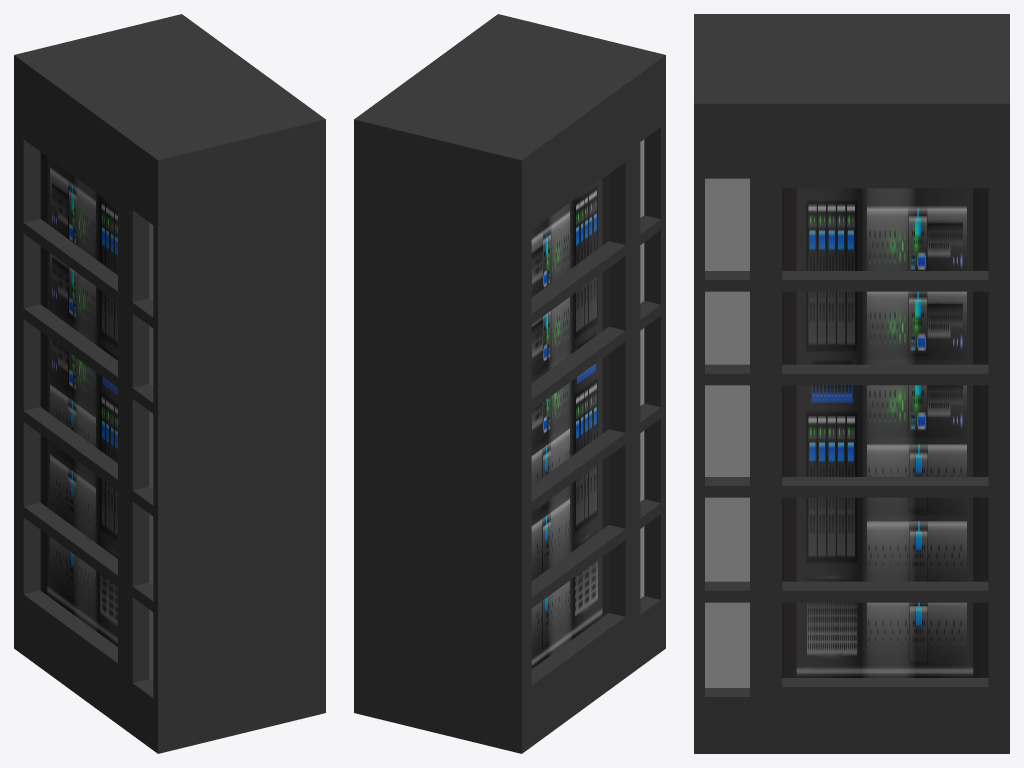
The model's file is BrokenServer.fbx.
3 views of the same model, side by side, from view 1: azimuth 30°, elevation 25°; view 2: azimuth 150°, elevation 25°; view 3: azimuth 270°, elevation 25° (orthographic). The views are drawn at different scales.
Parts seen in each view (by area): view 1: Server; view 2: Server; view 3: Server.
Part boxes in pixels (bbox=[...]): Server: bbox=[14, 14, 325, 753]; Server: bbox=[354, 14, 665, 753]; Server: bbox=[694, 14, 1009, 753].
Bounding box in the file's own units: 0.0148 × 0.05 × 0.022.
3 materials, 1 textured.
